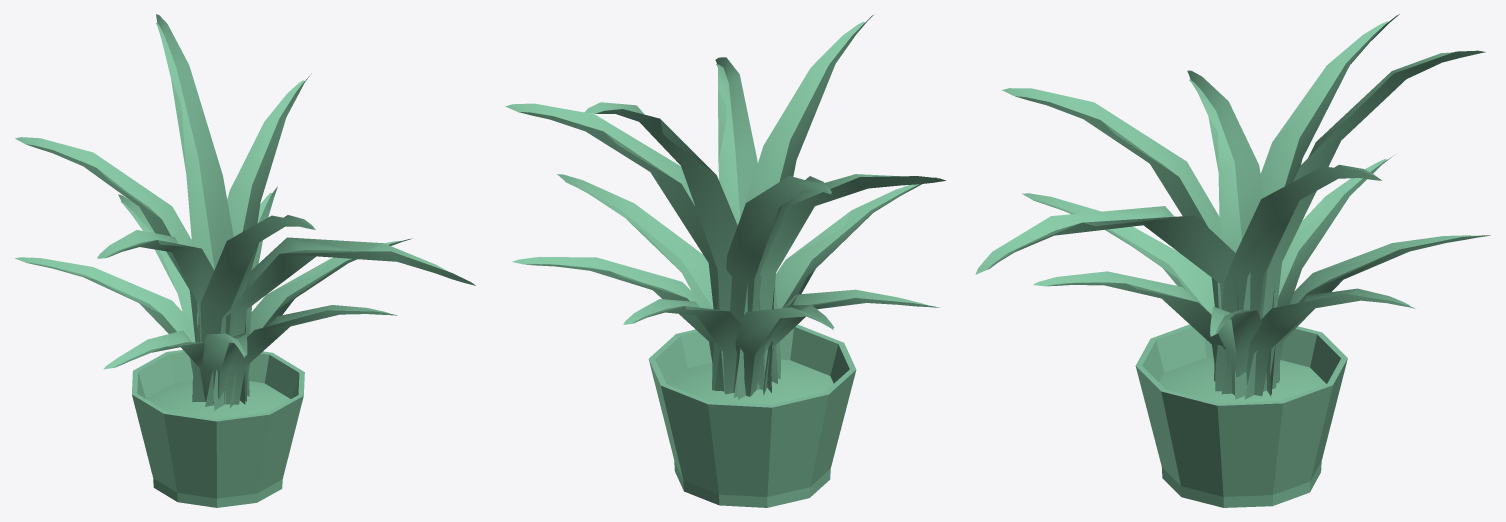
The model's file is Plant_Model00.fbx.
3 views of the same model, side by side, from view 1: azimuth 30°, elevation 25°; view 2: azimuth 150°, elevation 25°; view 3: azimuth 270°, elevation 25° (orthographic). The views are drawn at different scales.
Visible parts, largest first — view 1: Plant; view 2: Plant; view 3: Plant.
Part boxes in pixels (left/top/right/bottom): Plant: left=15, top=14, right=475, bottom=507; Plant: left=505, top=15, right=945, bottom=507; Plant: left=975, top=14, right=1490, bottom=507.
Bounding box in the file's own units: 23.96 × 26.65 × 27.81.
